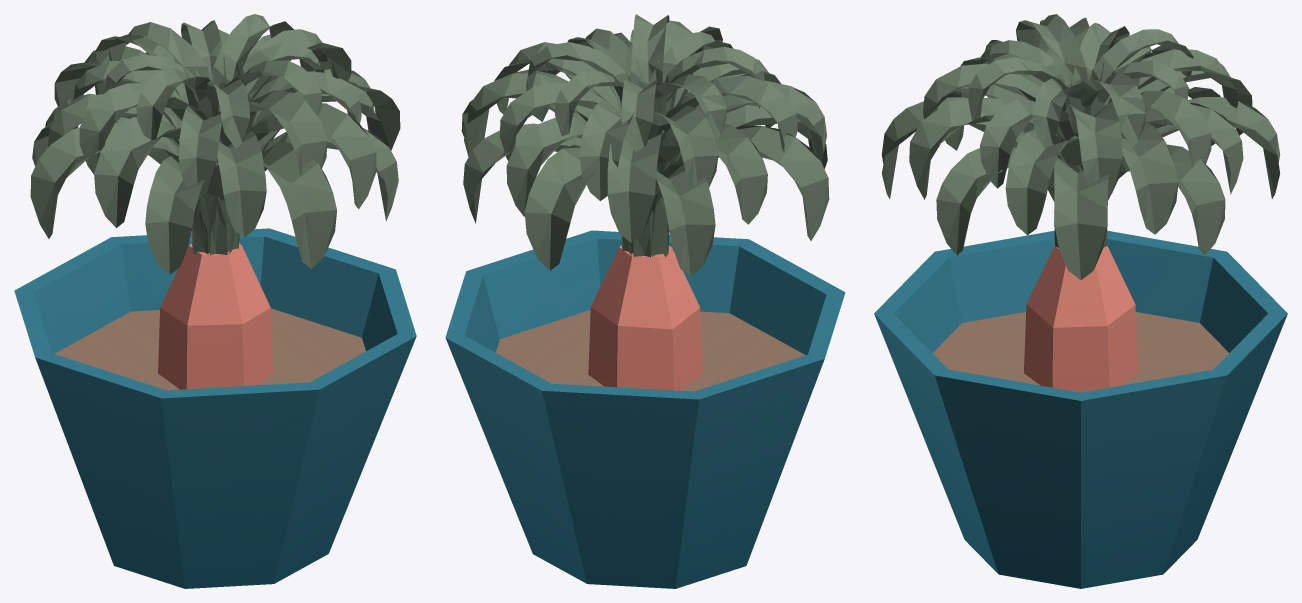
File: plant-small.glb
The picture shows the model from 3 angles, left to right: view 1: azimuth 30°, elevation 25°; view 2: azimuth 150°, elevation 25°; view 3: azimuth 270°, elevation 25°; orthographic projection.
Visible parts, largest first — view 1: PlantSmall.001; view 2: PlantSmall.001; view 3: PlantSmall.001.
Boxes of the visible parts, x1=… form: PlantSmall.001: x1=14, y1=14, x2=416, y2=588; PlantSmall.001: x1=445, y1=14, x2=845, y2=588; PlantSmall.001: x1=874, y1=14, x2=1287, y2=588.
Bounding box in the file's own units: 0.2416 × 0.3157 × 0.2416.
1 material, 1 textured.
